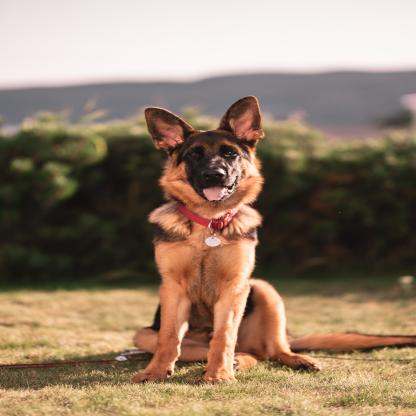dog: (133, 92, 315, 384)
